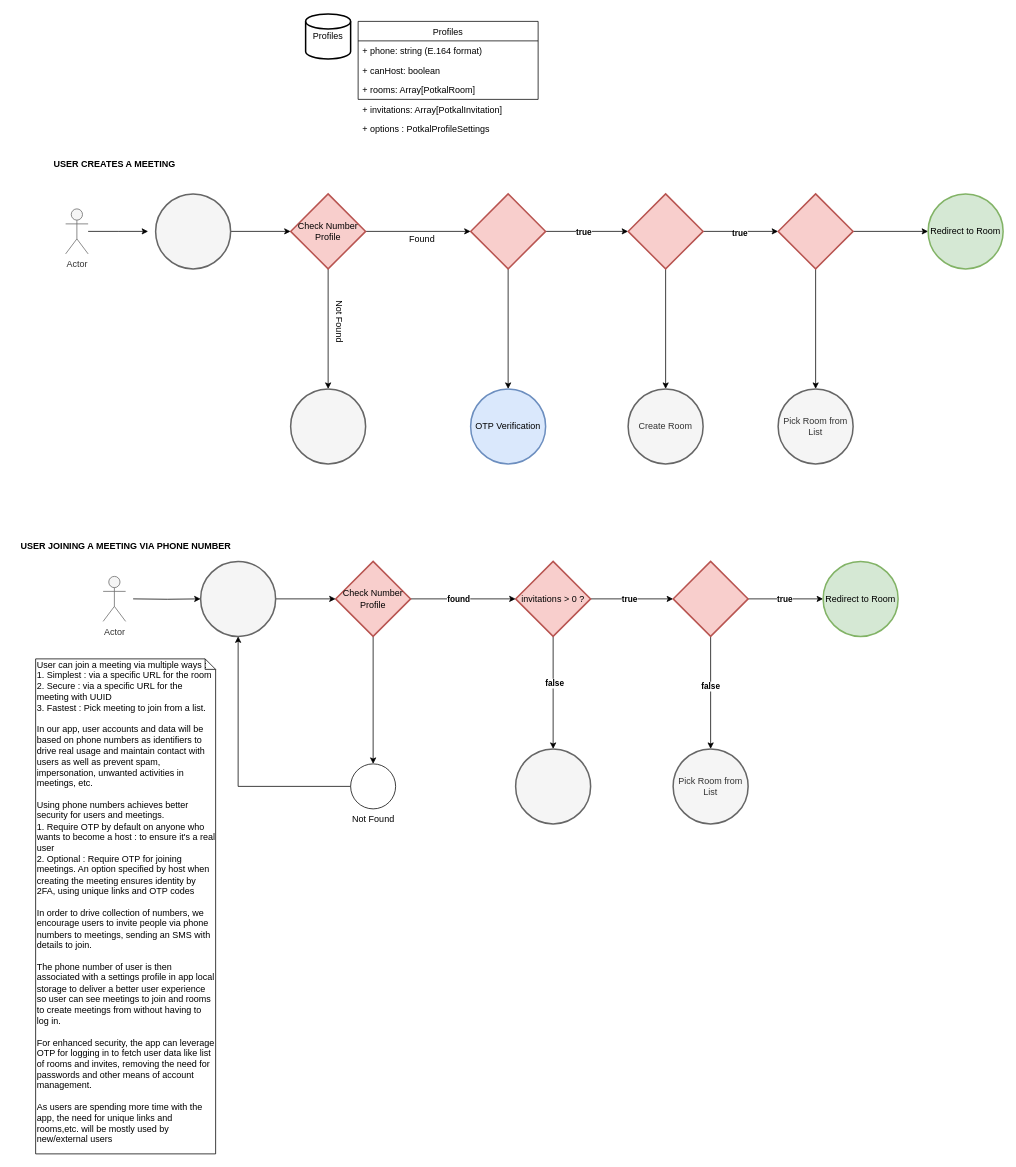
The diagram is 1016 pixels wide and 1167 high, and some of its shapes have lost their labels. The shapes that lost their labels are listed below. From the top down, each one's centre as x and y in pixels, then its label:
At (192,231): "Create Meeting".
At (508,231): "canHost=true?".
At (665,231): "roomCount > 0?".
At (815,231): "roomCount = 1?".
At (328,426): "Sign Up with Phone".
At (238,598): "Join Meeting".
At (710,598): "invitations = 1".
At (552,786): "Nothing to Join".
